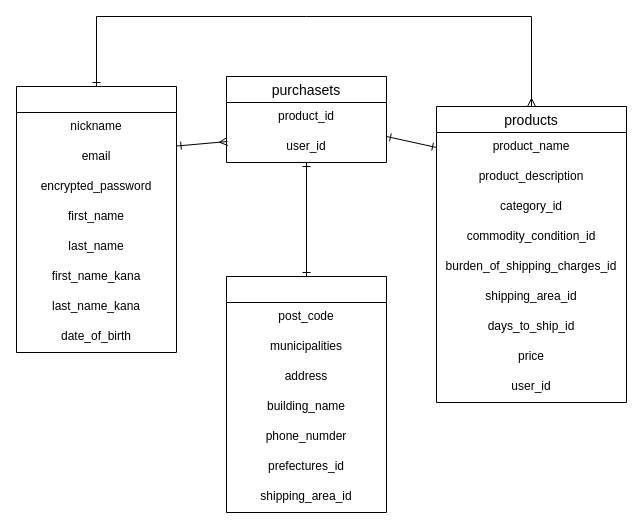
Image size: 643x529. Some labels were removed from this diagram. The box of each missing label's shape, as (x1, y1, x2, y2) in pixels:
shipping_addresses: (226, 276, 386, 512)
users: (16, 86, 176, 352)
